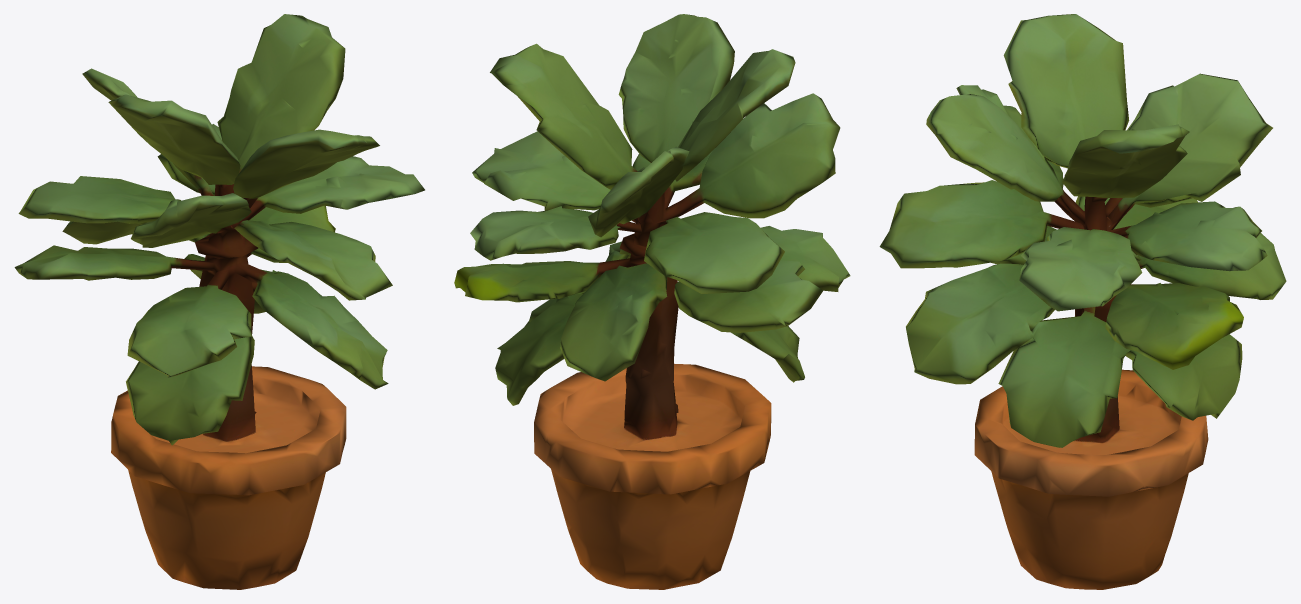
Rendered from plant.glb.
3 views of the same model, side by side, from view 1: azimuth 30°, elevation 25°; view 2: azimuth 150°, elevation 25°; view 3: azimuth 270°, elevation 25° (orthographic). The views are drawn at different scales.
Visible parts, largest first — view 1: tripo_node_be33c1c1-9745-4a77-967f-c86877becd0d; view 2: tripo_node_be33c1c1-9745-4a77-967f-c86877becd0d; view 3: tripo_node_be33c1c1-9745-4a77-967f-c86877becd0d.
Boxes of the visible parts, bbox=[...] form: tripo_node_be33c1c1-9745-4a77-967f-c86877becd0d: bbox=[14, 14, 424, 589]; tripo_node_be33c1c1-9745-4a77-967f-c86877becd0d: bbox=[454, 14, 850, 589]; tripo_node_be33c1c1-9745-4a77-967f-c86877becd0d: bbox=[879, 14, 1286, 589].
Bounding box in the file's own units: 0.7407 × 1 × 0.741.
Materials: 1 (1 with a texture image).
